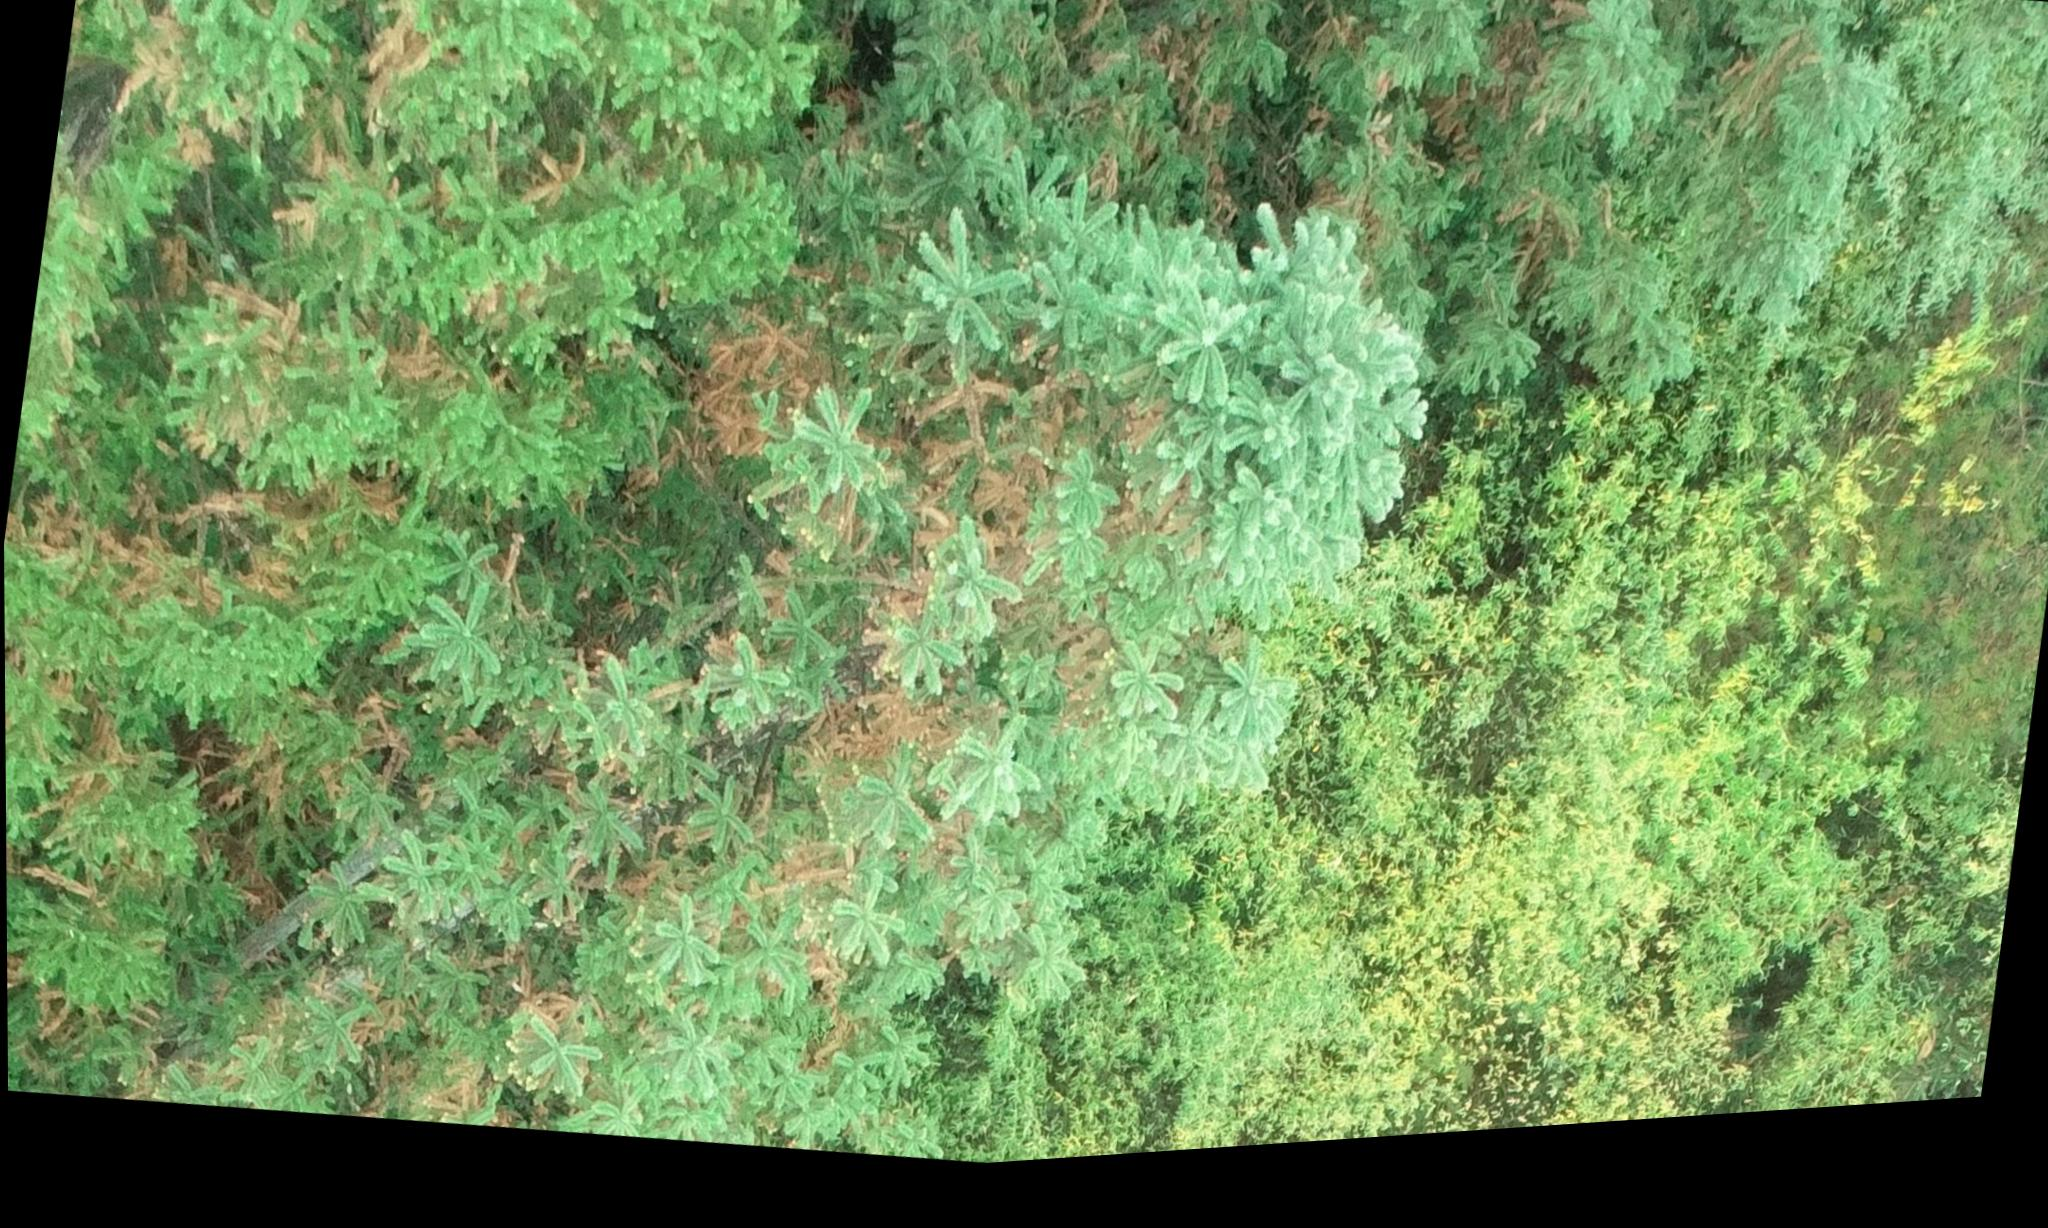light: (0, 0, 1305, 1161)
